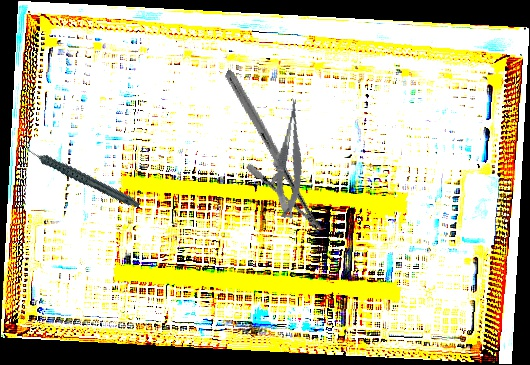Handpiece: (22, 122, 142, 230)
Micro Scissor: (268, 97, 315, 220)
Needle Holder: (180, 69, 367, 233)
